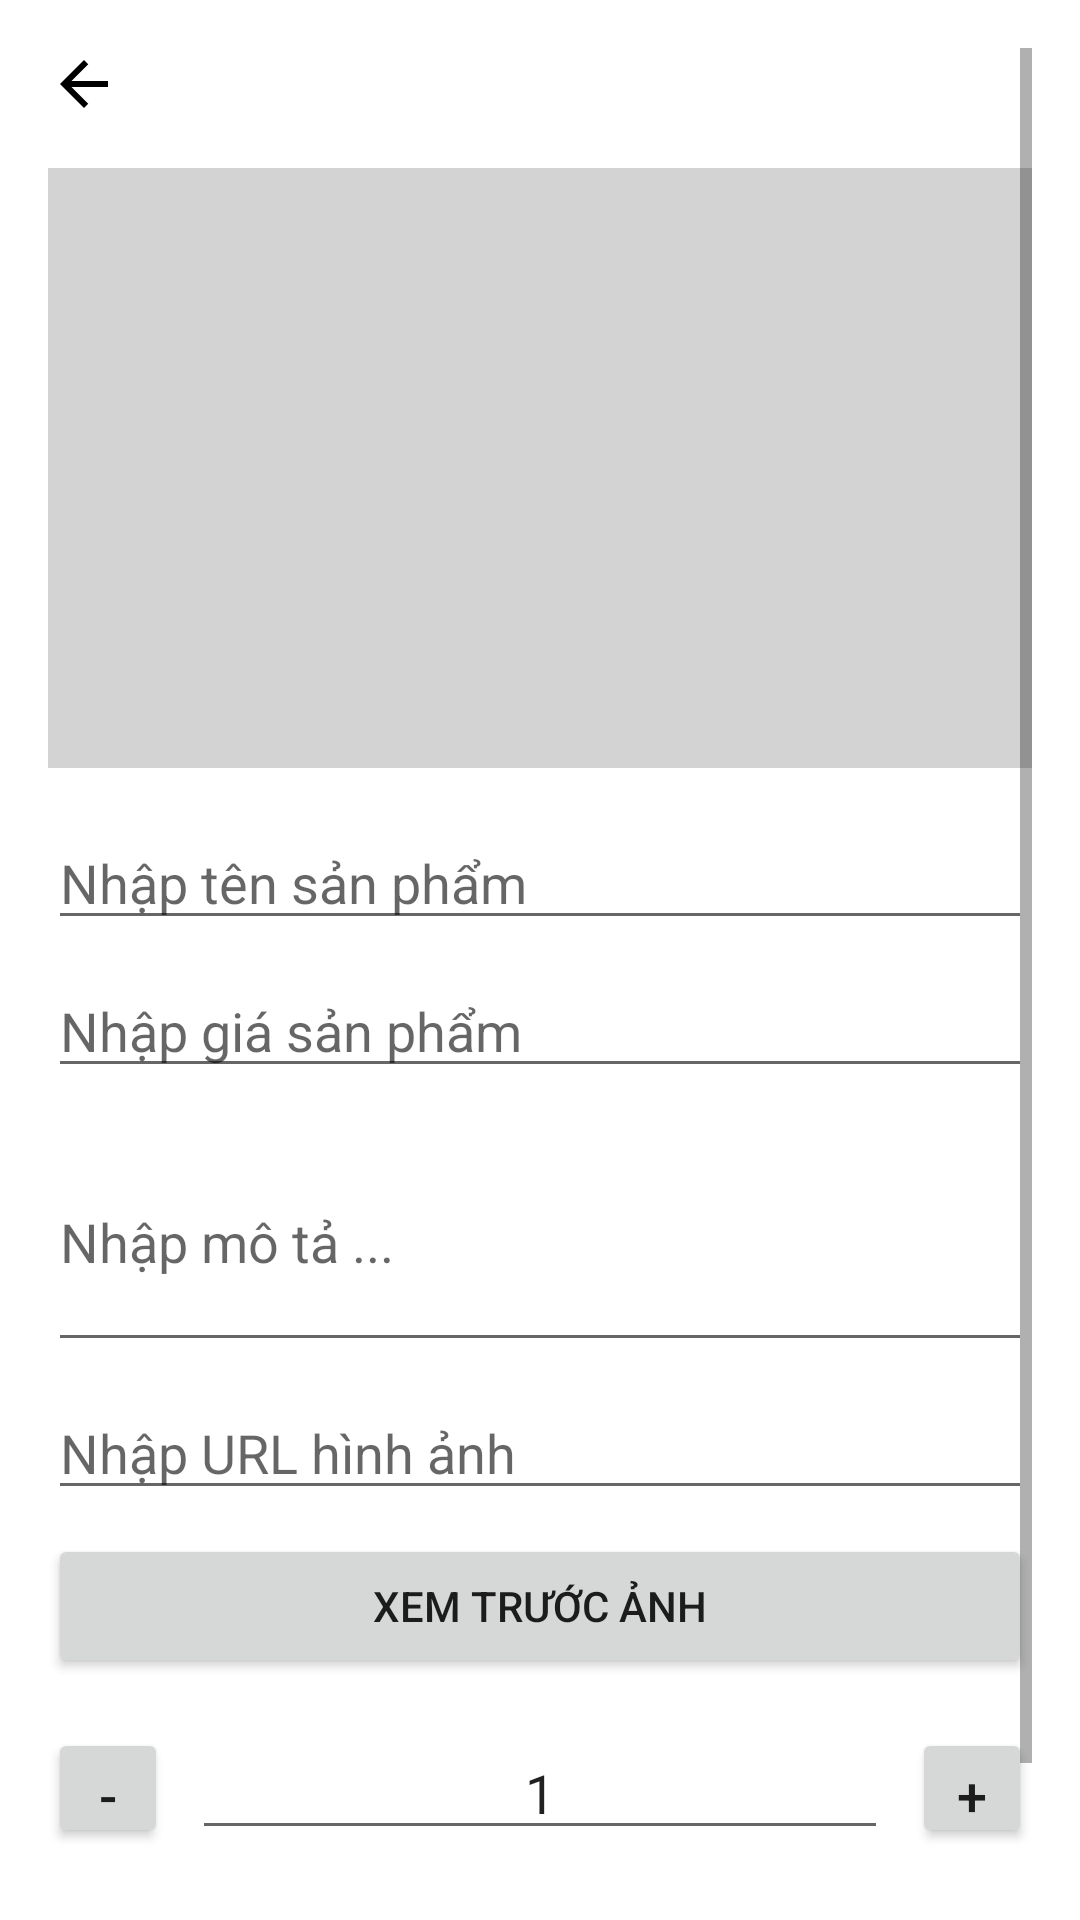

Icons on this 1080×1920 Android screen, each with its box as (x1, y1, x2, y2):
Back: (60, 60, 108, 108)
